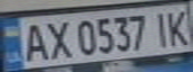0: (72, 16, 96, 56)
3: (112, 12, 133, 52)
5: (93, 15, 115, 54)
7: (127, 11, 151, 51)
A: (18, 19, 51, 63)
I: (148, 8, 172, 47)
K: (163, 6, 193, 47)
X: (42, 18, 72, 61)
